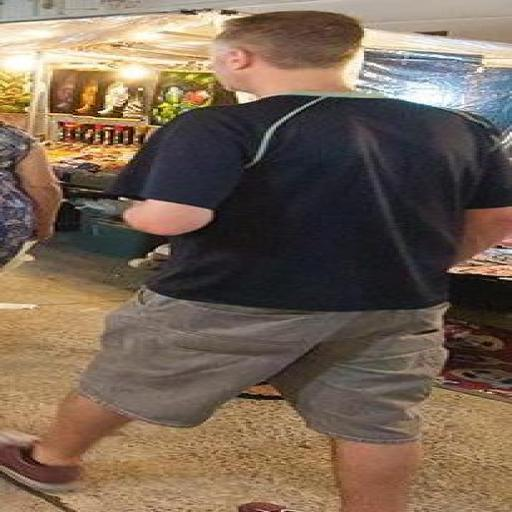person: (0, 12, 511, 511), (0, 122, 62, 268)
